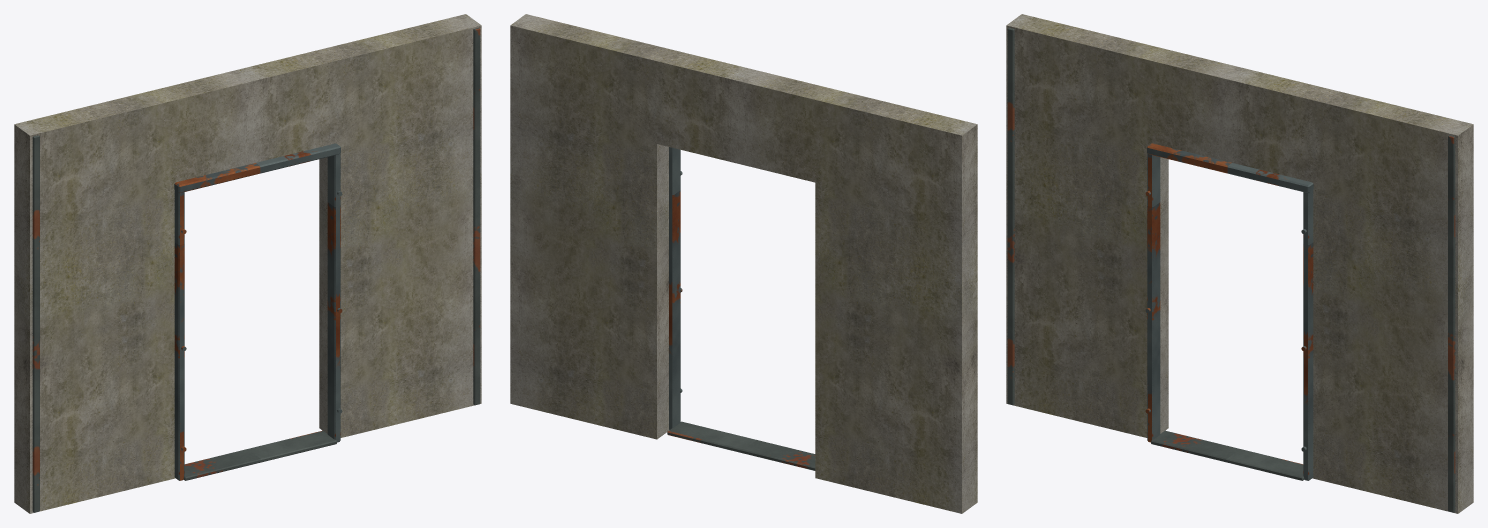
Rendered from wall_doorway_refined.glb.
3 views of the same model, side by side, from view 1: azimuth 30°, elevation 25°; view 2: azimuth 150°, elevation 25°; view 3: azimuth 330°, elevation 25° (orthographic).
Parts seen in each view (by area): view 1: Personnel opening | concrete_combined.001, Personnel opening | steel_combined.001, Personnel opening | roof_combined.001; view 2: Personnel opening | concrete_combined.001, Personnel opening | steel_combined.001, Personnel opening | roof_combined.001; view 3: Personnel opening | concrete_combined.001, Personnel opening | steel_combined.001, Personnel opening | roof_combined.001.
Part boxes in pixels (x1,y1,x2,y2): Personnel opening | concrete_combined.001: (14,14,481,513); Personnel opening | steel_combined.001: (174,143,342,480); Personnel opening | roof_combined.001: (32,27,480,512); Personnel opening | concrete_combined.001: (510,14,977,513); Personnel opening | steel_combined.001: (669,147,682,429); Personnel opening | roof_combined.001: (667,421,815,470); Personnel opening | concrete_combined.001: (1006,14,1473,513); Personnel opening | steel_combined.001: (1145,143,1313,480); Personnel opening | roof_combined.001: (1007,27,1455,512).
Size of the model in its own units: 4 by 3.2 by 0.342.
Materials: 3 (3 with a texture image).
